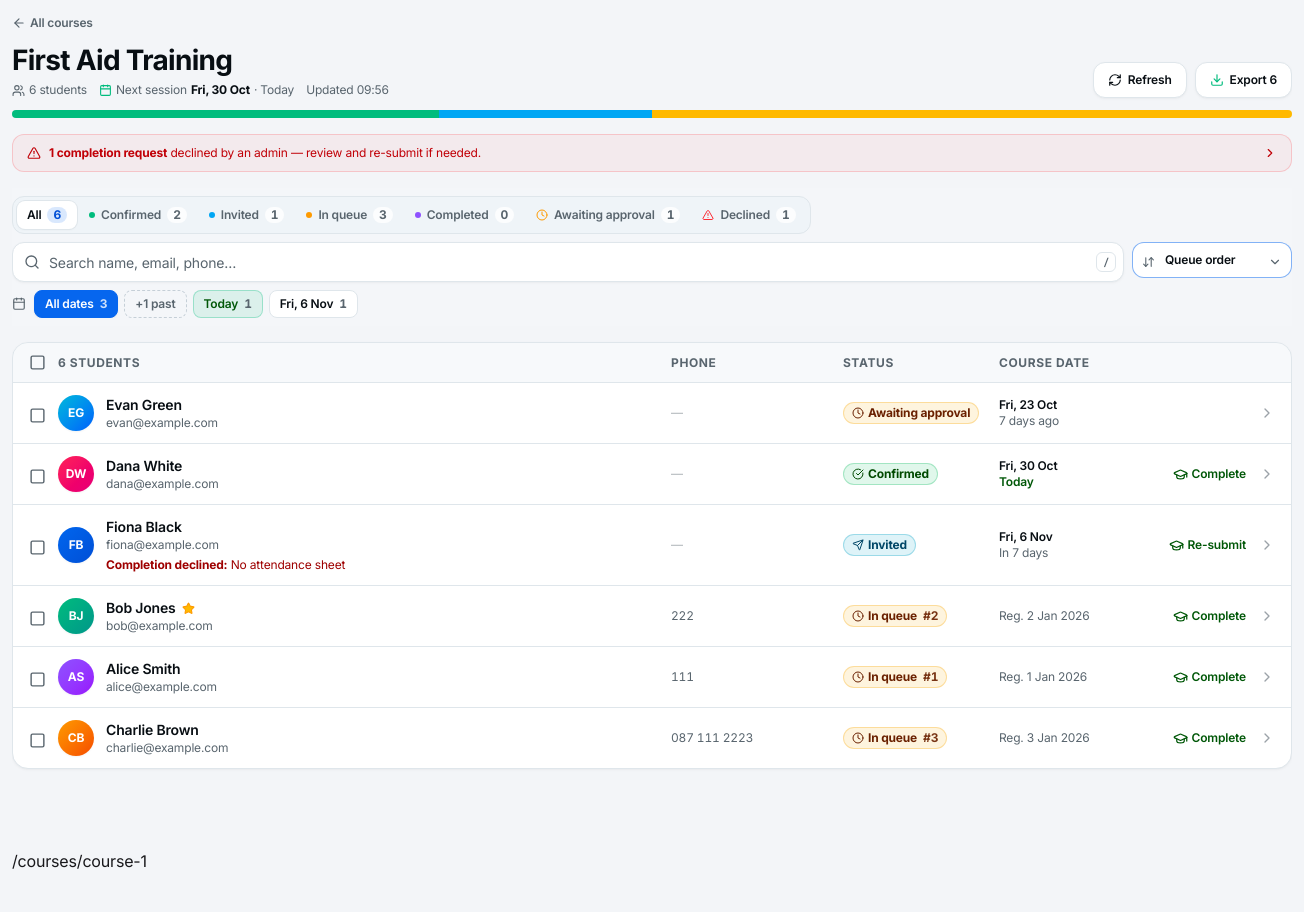
Scenario: ViewerCourses › roster › searches by name, email and phone digits
Expected: the text "Bob Jones" is shown, left=106, top=598, right=176, bottom=618
In the search field named "Search students in this course": (568, 262) left=12, top=242, right=1124, bottom=282, type "alice"
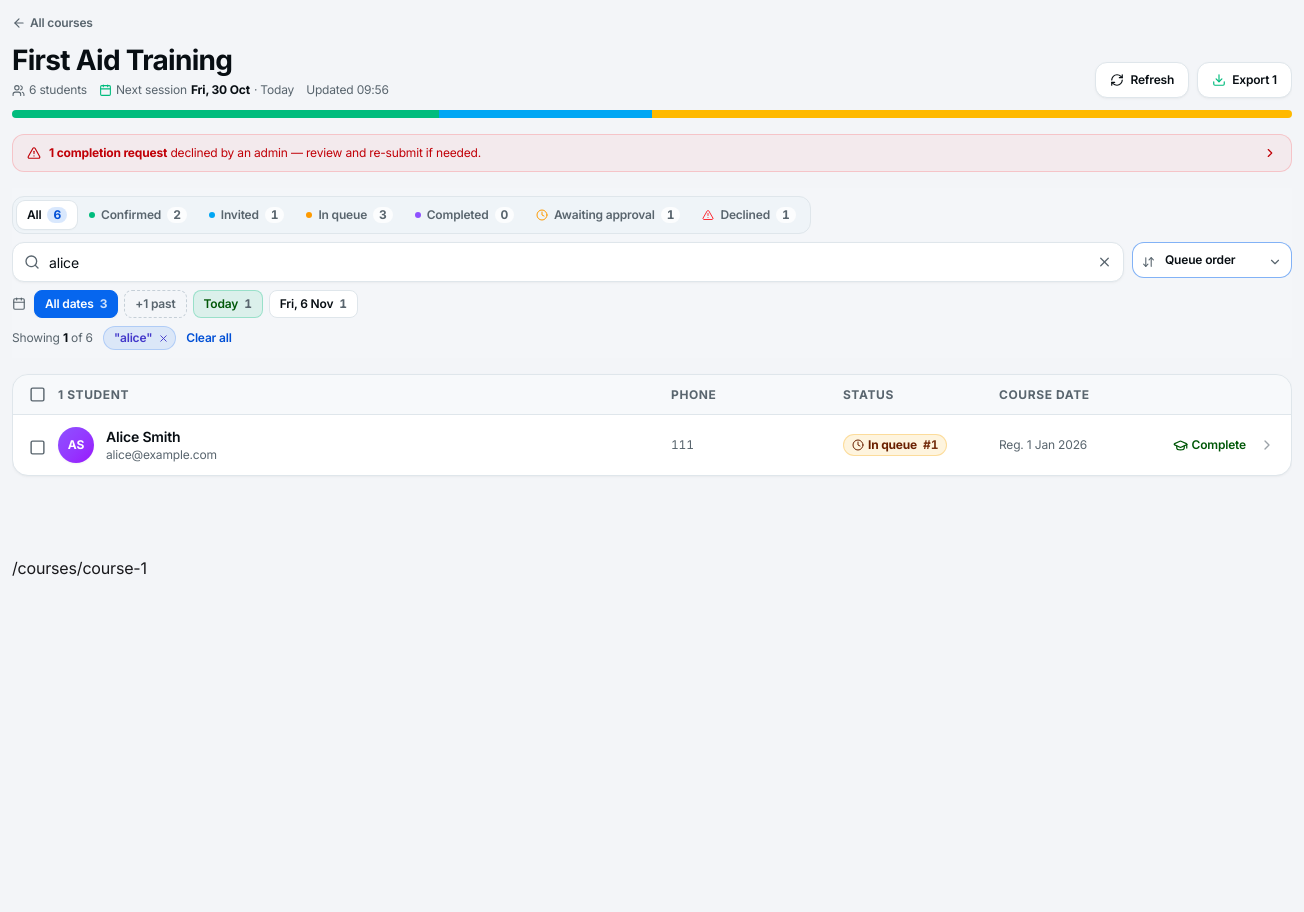
Replace the text in the search field named "Search students in this course" with "111 222": (568, 262) left=12, top=242, right=1124, bottom=282
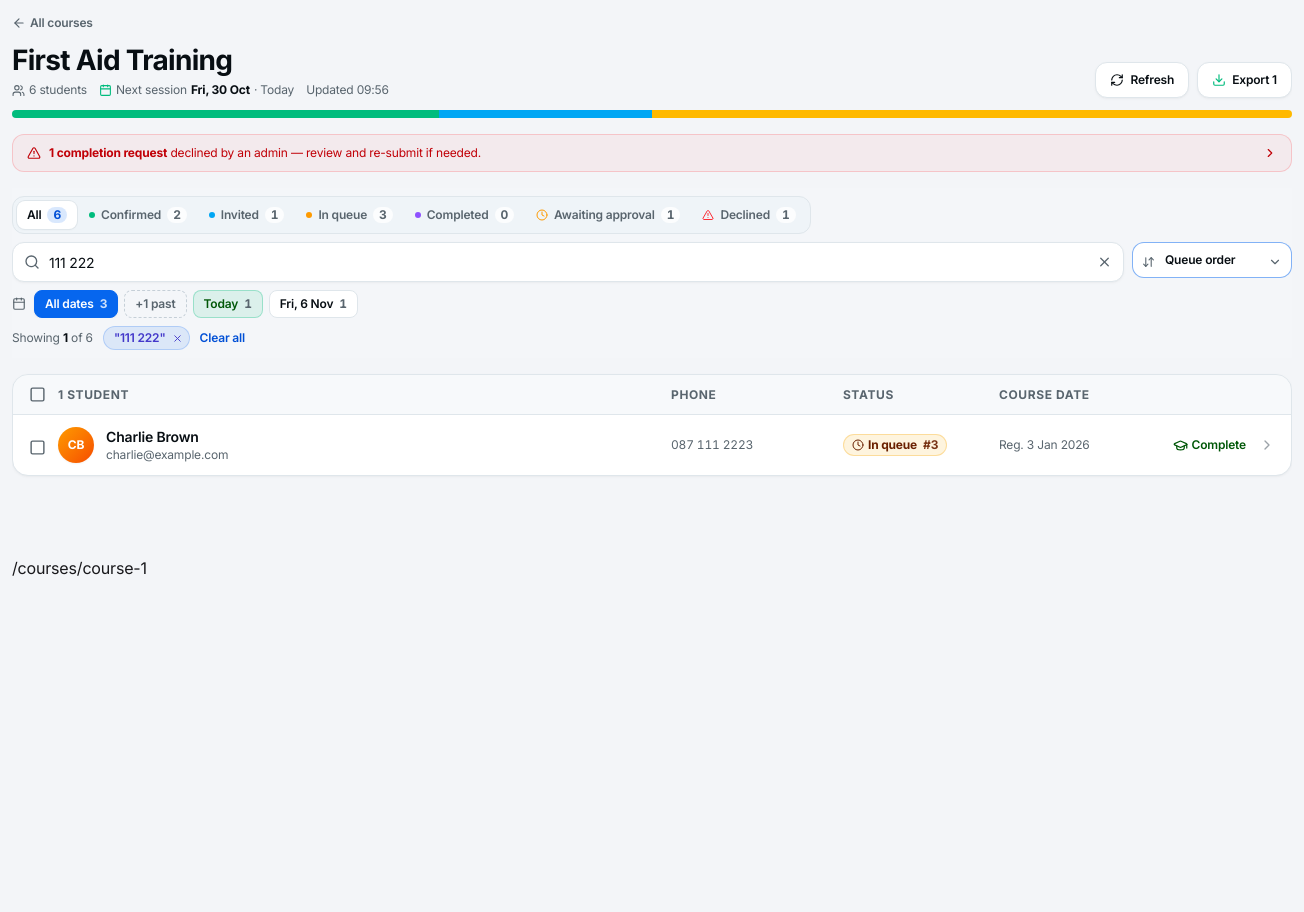
Press Escape in the search field named "Search students in this course", box left=12, top=242, right=1124, bottom=282
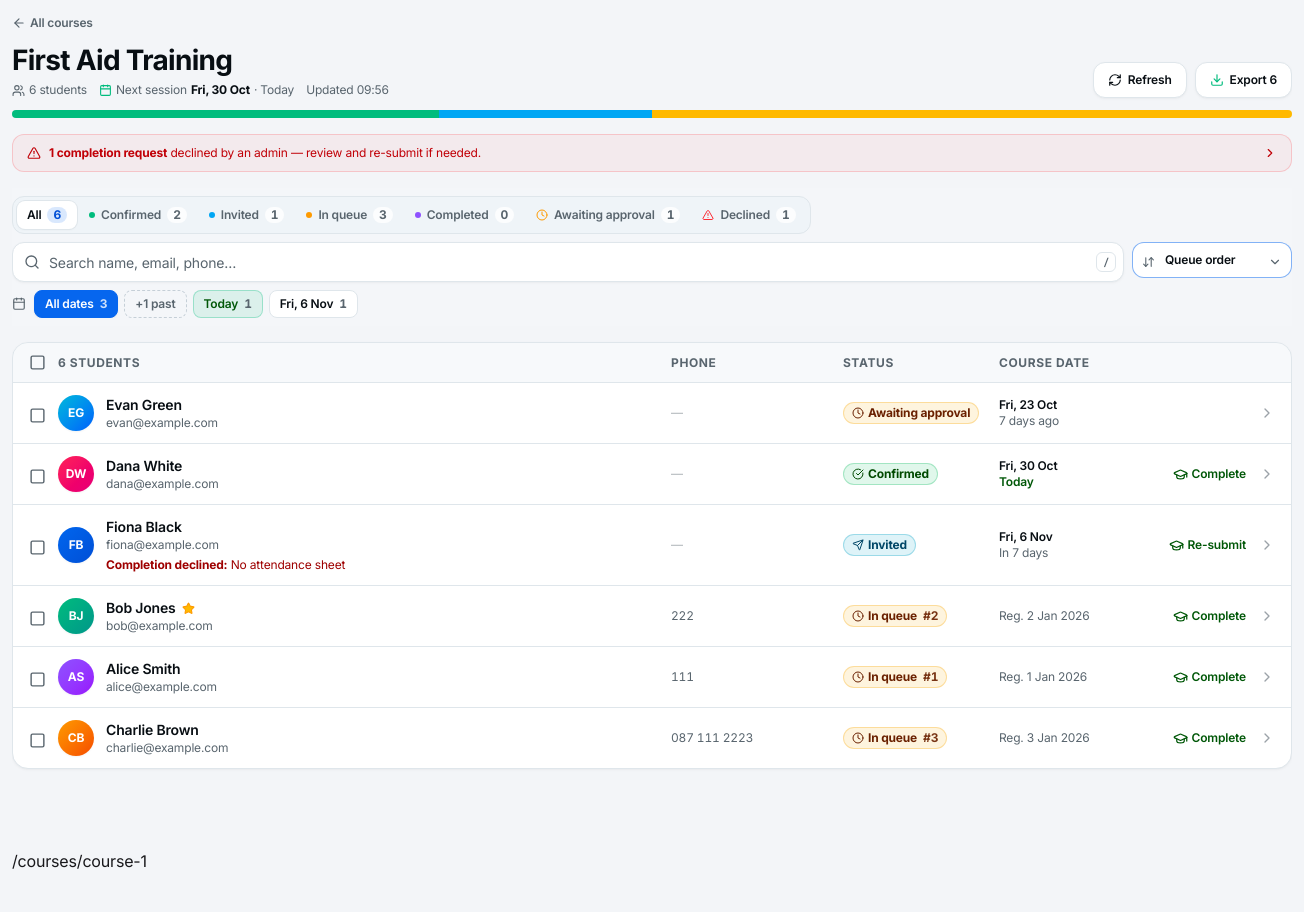
Expected: the number of elements with test id "roster-row" is 6, left=13, top=383, right=1291, bottom=444; left=13, top=444, right=1291, bottom=505; left=13, top=505, right=1291, bottom=586; left=13, top=586, right=1291, bottom=647; left=13, top=647, right=1291, bottom=708; left=13, top=708, right=1291, bottom=768
